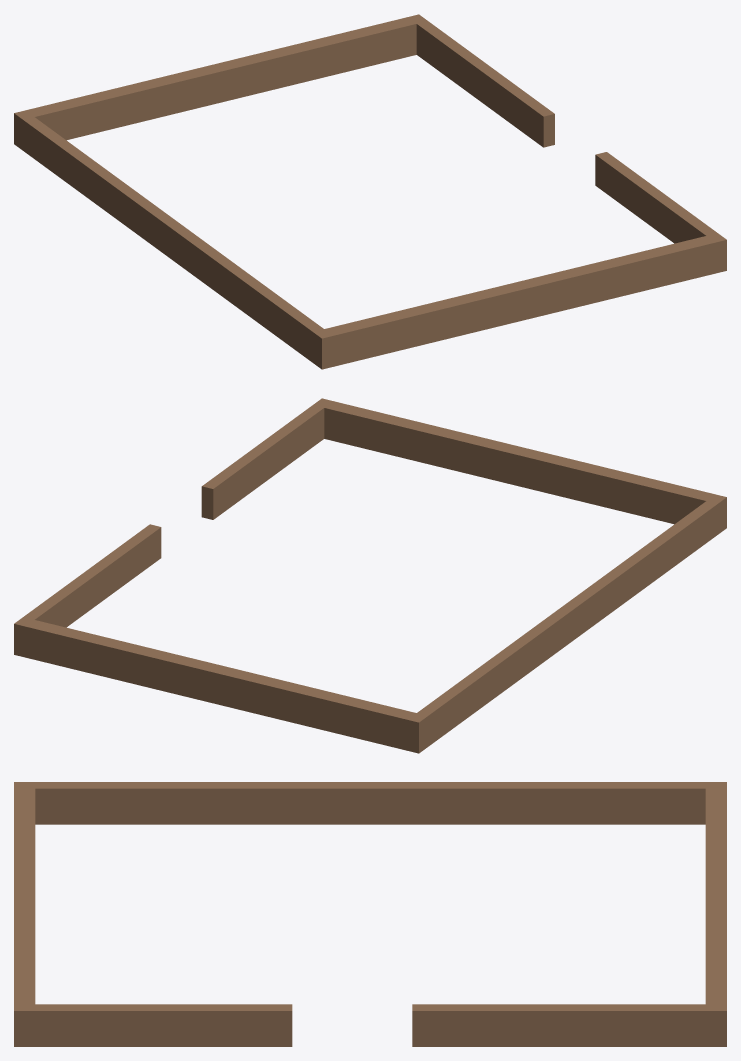
File: RoomSkeleton.fbx
3 views of the same model, one above another, from view 1: azimuth 30°, elevation 25°; view 2: azimuth 150°, elevation 25°; view 3: azimuth 270°, elevation 25° (orthographic). The views are drawn at different scales.
Parts seen in each view (by area): view 1: Walls.002; view 2: Walls.002; view 3: Walls.002.
Boxes of the visible parts, left/top/right/bottom form: Walls.002: left=14, top=14, right=726, bottom=369; Walls.002: left=14, top=398, right=726, bottom=753; Walls.002: left=14, top=782, right=726, bottom=1046.
Size of the model in its own units: 537 by 39.3 by 707.
